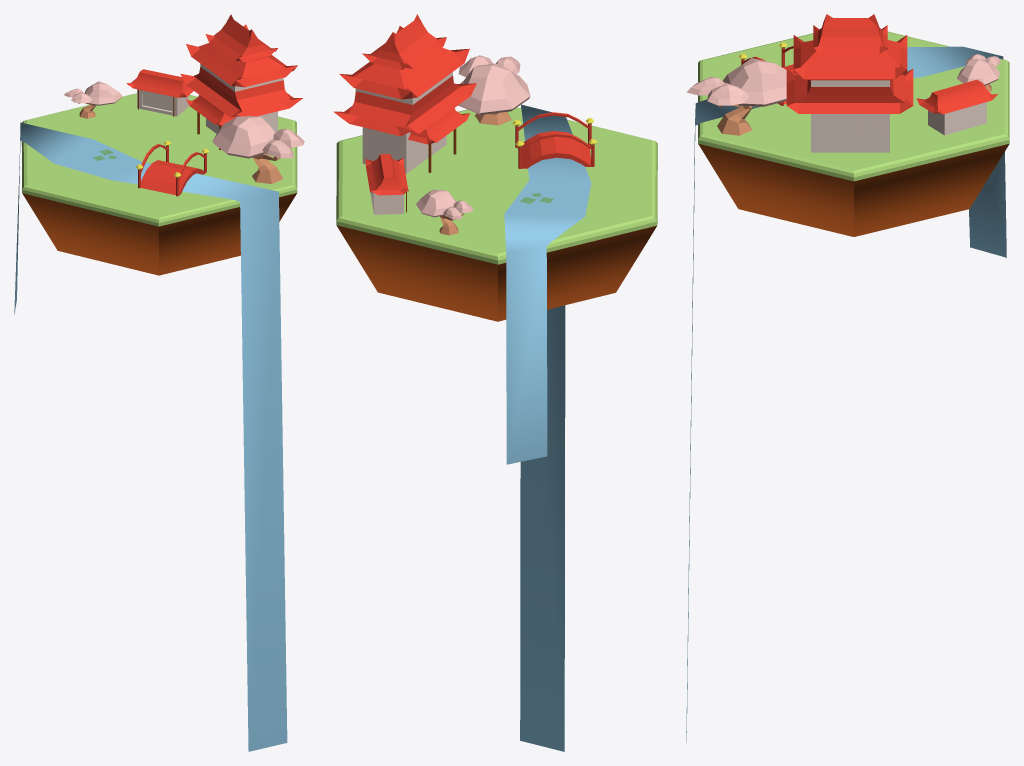
Rendered from Asset_BiomeChina.fbx.
The picture shows the model from 3 angles, left to right: view 1: azimuth 30°, elevation 25°; view 2: azimuth 150°, elevation 25°; view 3: azimuth 270°, elevation 25°; orthographic projection. The views are drawn at different scales.
Visible parts, largest first — view 1: PolySurface_Water, PolySurface_TileChina, pCube7, pCube12 (×2), pCube2, PolySurface_Bridge, pCylinder5, pCube8; view 2: PolySurface_TileChina, PolySurface_Water1, PolySurface_Water, pCube7, pCube12 (×2), PolySurface_Bridge, pCube2, pCube8; view 3: PolySurface_TileChina, pCube7, PolySurface_Water1, pCube12 (×2), pCube2, PolySurface_Water, pCylinder5, pCube11.
Boxes of the visible parts, box(x1,y1,x2,y2) form: PolySurface_Water: box(17, 122, 287, 751); PolySurface_TileChina: box(21, 93, 297, 275); pCube7: box(180, 14, 302, 133); pCube12 (×2): box(85, 81, 275, 158); pCube2: box(127, 69, 193, 116); PolySurface_Bridge: box(136, 140, 209, 196); pCylinder5: box(252, 148, 290, 183); pCube8: box(186, 95, 236, 125); PolySurface_TileChina: box(336, 107, 657, 321); PolySurface_Water1: box(520, 106, 565, 751); PolySurface_Water: box(504, 104, 591, 751); pCube7: box(333, 14, 476, 173); pCube12 (×2): box(416, 63, 530, 217); PolySurface_Bridge: box(512, 112, 596, 168); pCube2: box(365, 154, 408, 214); pCube8: box(408, 108, 470, 144); PolySurface_TileChina: box(698, 31, 1009, 236); pCube7: box(786, 14, 913, 152); PolySurface_Water1: box(686, 57, 1006, 742); pCube12 (×2): box(723, 58, 999, 106); pCube2: box(916, 79, 997, 135); PolySurface_Water: box(689, 46, 1005, 492); pCylinder5: box(717, 104, 753, 135); pCube11: box(707, 83, 749, 105).
Bounding box in the file's own units: 436 × 1003 × 391.
1 material, 1 textured.
